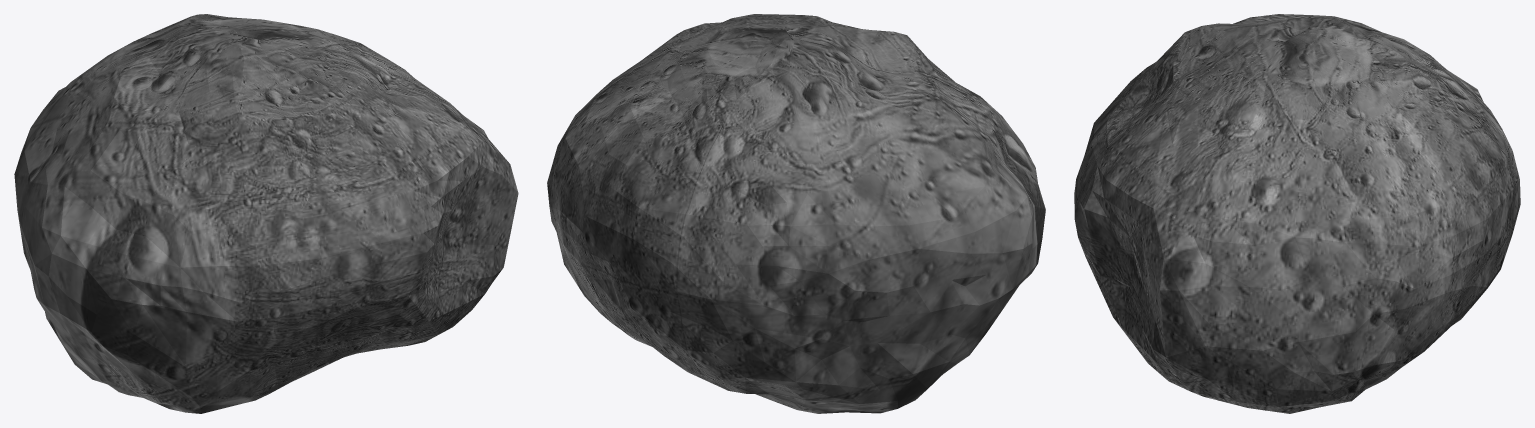
The model's file is Phobos2.fbx.
3 views of the same model, side by side, from view 1: azimuth 30°, elevation 25°; view 2: azimuth 150°, elevation 25°; view 3: azimuth 270°, elevation 25° (orthographic).
Visible parts, largest first — view 1: Phobos:Mesh; view 2: Phobos:Mesh; view 3: Phobos:Mesh.
Part boxes in pixels (left/top/right/bottom): Phobos:Mesh: left=14, top=14, right=518, bottom=413; Phobos:Mesh: left=547, top=14, right=1045, bottom=413; Phobos:Mesh: left=1074, top=14, right=1520, bottom=413.
Size of the model in its own units: 260 by 194 by 233.
1 material, 1 textured.
